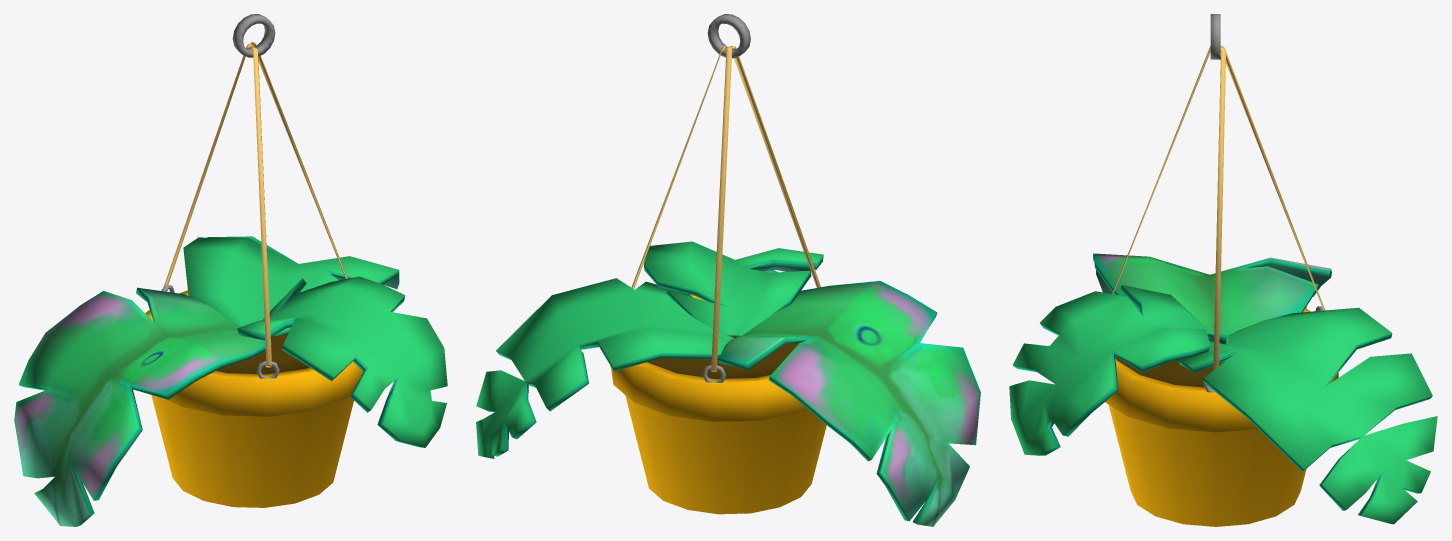
The model's file is HangingPlant.glb.
The picture shows the model from 3 angles, left to right: view 1: azimuth 30°, elevation 25°; view 2: azimuth 150°, elevation 25°; view 3: azimuth 270°, elevation 25°; orthographic projection. The views are drawn at different scales.
Visible parts, largest first — view 1: Planter; view 2: Planter; view 3: Planter.
Part boxes in pixels (<box>): Planter: <box>14,14,447,526</box>; Planter: <box>476,14,980,526</box>; Planter: <box>1009,14,1437,526</box>.
Bounding box in the file's own units: 3.84 × 4.28 × 3.49.
1 material, 1 textured.
